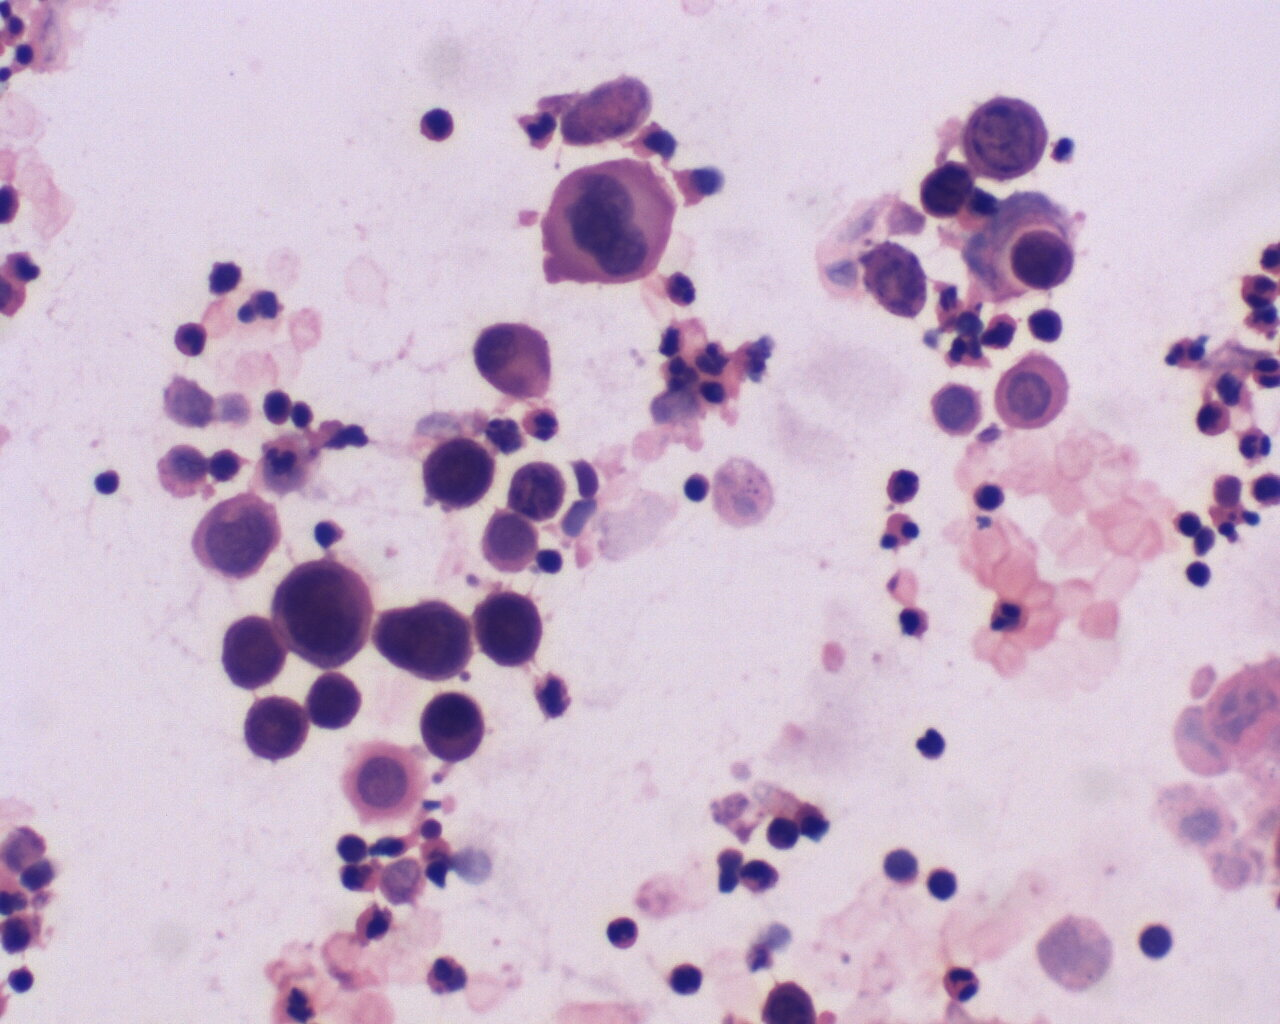ab: (539, 156, 677, 295), (269, 558, 379, 675), (183, 489, 284, 579), (376, 599, 476, 684), (962, 94, 1053, 185), (471, 586, 551, 673), (991, 351, 1070, 433), (417, 434, 495, 514), (216, 614, 290, 695), (240, 690, 310, 774), (420, 692, 489, 764), (1009, 229, 1075, 292), (505, 461, 568, 519), (306, 673, 365, 734), (927, 379, 982, 437)
lymph: (1136, 918, 1179, 963), (90, 465, 133, 504), (675, 467, 713, 508), (926, 864, 963, 903), (1181, 557, 1215, 592)
neutro: (990, 594, 1038, 638), (939, 961, 981, 1005), (602, 916, 641, 953)
